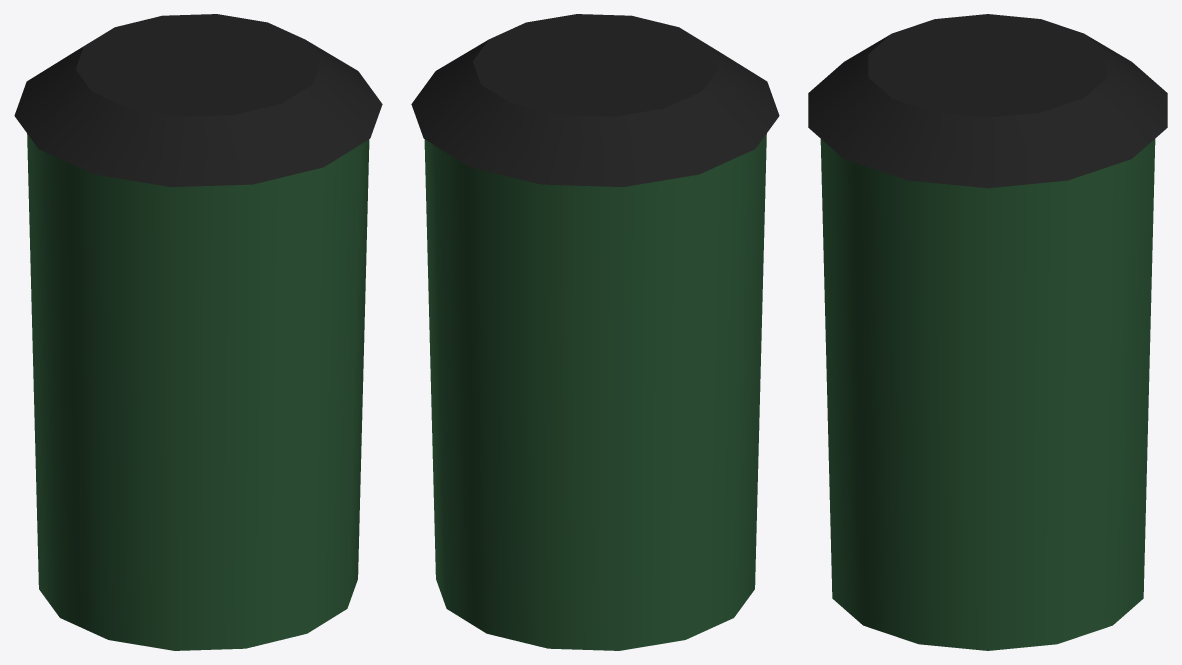
File: trash_bin_street.glb
3 renders of one model, left to right at view 1: azimuth 30°, elevation 25°; view 2: azimuth 150°, elevation 25°; view 3: azimuth 270°, elevation 25°, orthographic.
Parts seen in each view (by area): view 1: street_bin; view 2: street_bin; view 3: street_bin.
Boxes of the visible parts, <box> form: street_bin: <box>14,14,382,650</box>; street_bin: <box>411,14,779,650</box>; street_bin: <box>808,14,1167,650</box>.
Bounding box in the file's own units: 0.6 × 0.98 × 0.585.
